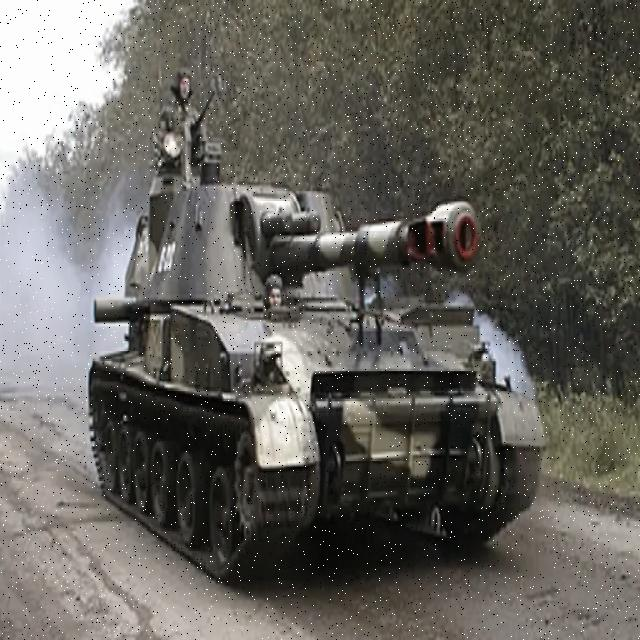ART: (85, 142, 546, 600)
